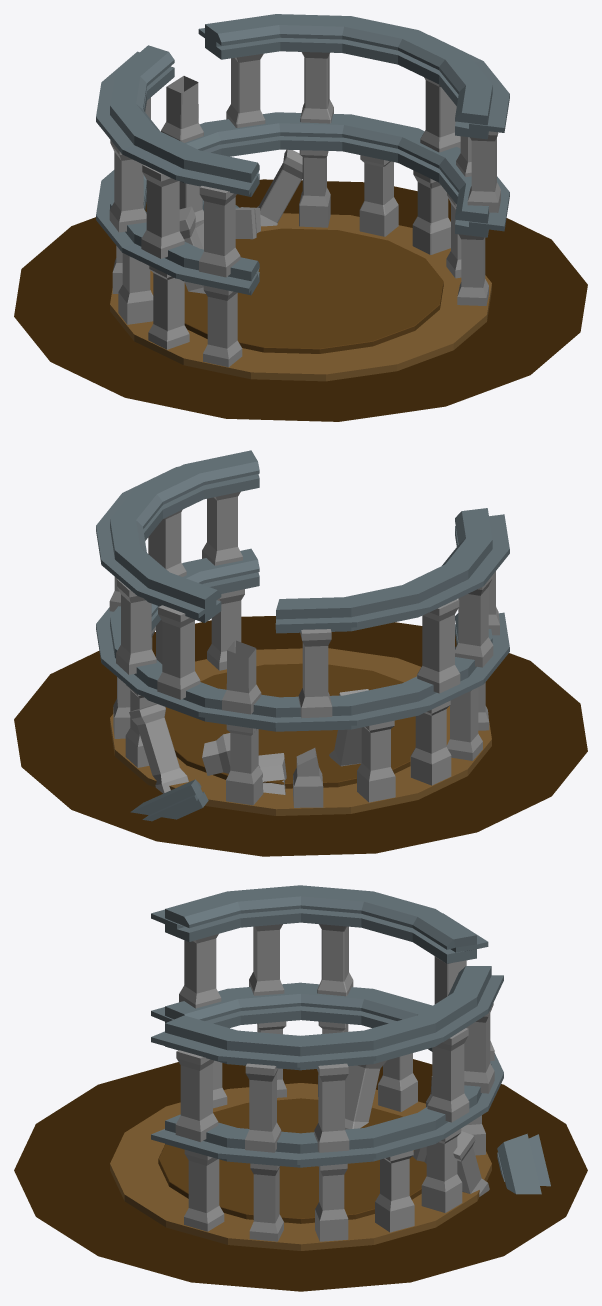
Rendered from Fase montanha.fbx.
3 views of the same model, one above another, from view 1: azimuth 30°, elevation 25°; view 2: azimuth 150°, elevation 25°; view 3: azimuth 270°, elevation 25° (orthographic).
Parts seen in each view (by area): view 1: Chao, Pilares; view 2: Pilares, Chao; view 3: Pilares, Chao.
Boxes of the visible parts, x1,y1,x2,y2 form: Chao: [14, 179, 587, 421]; Pilares: [96, 14, 509, 367]; Pilares: [96, 450, 509, 821]; Chao: [14, 616, 587, 856]; Pilares: [151, 885, 550, 1241]; Chao: [14, 1059, 587, 1291].
Bounding box in the file's own units: 2987 × 1289 × 2987.
